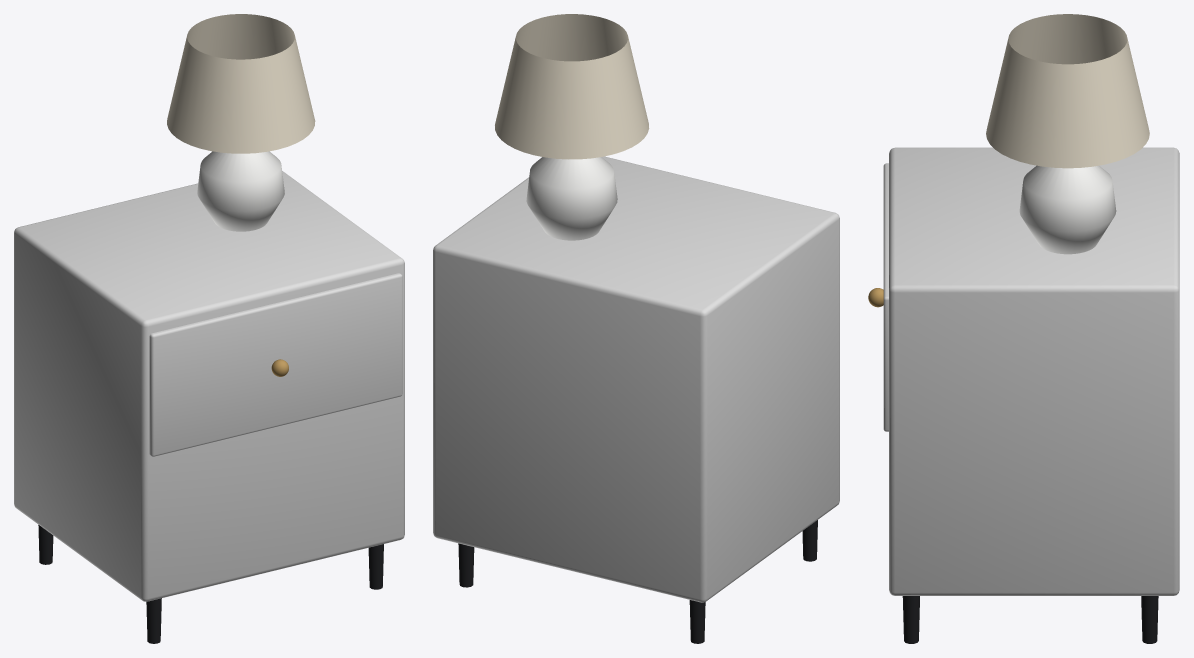
The model's file is mesinha.glb.
3 renders of one model, left to right at view 1: azimuth 30°, elevation 25°; view 2: azimuth 150°, elevation 25°; view 3: azimuth 270°, elevation 25°, orthographic. The views are drawn at different scales.
Parts seen in each view (by area): view 1: p; view 2: p; view 3: p.
Part boxes in pixels (x1,y1,x2,y2): p: (14,14,404,643); p: (433,14,839,643); p: (868,14,1179,643).
Size of the model in its own units: 0.45 by 0.84 by 0.4179.
